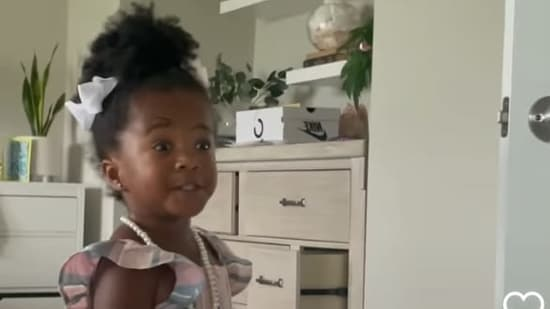NoMask: (138, 117, 216, 214)
